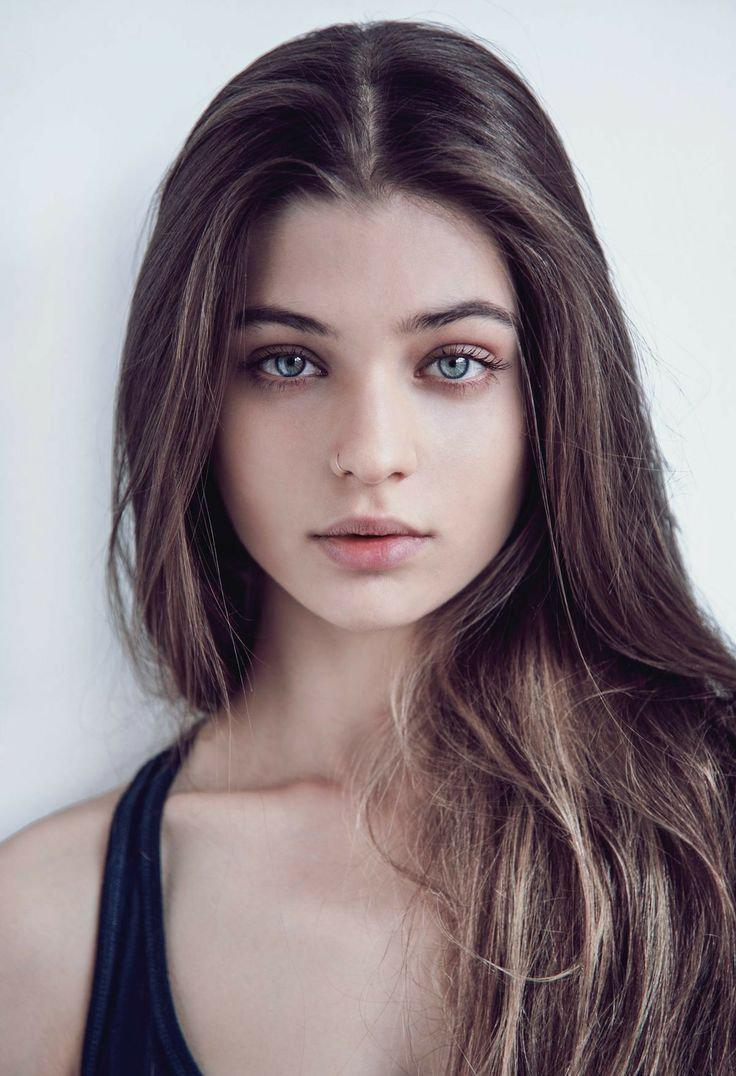Sober: (220, 193, 522, 601)
